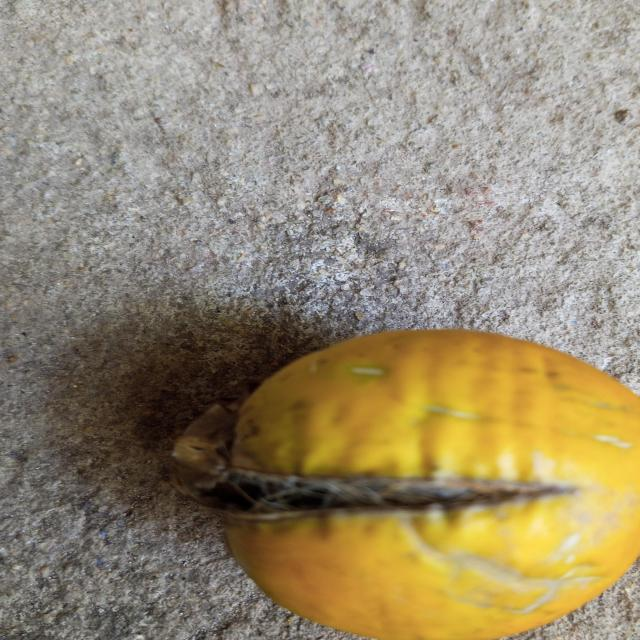damaged: (178, 329, 640, 640)
